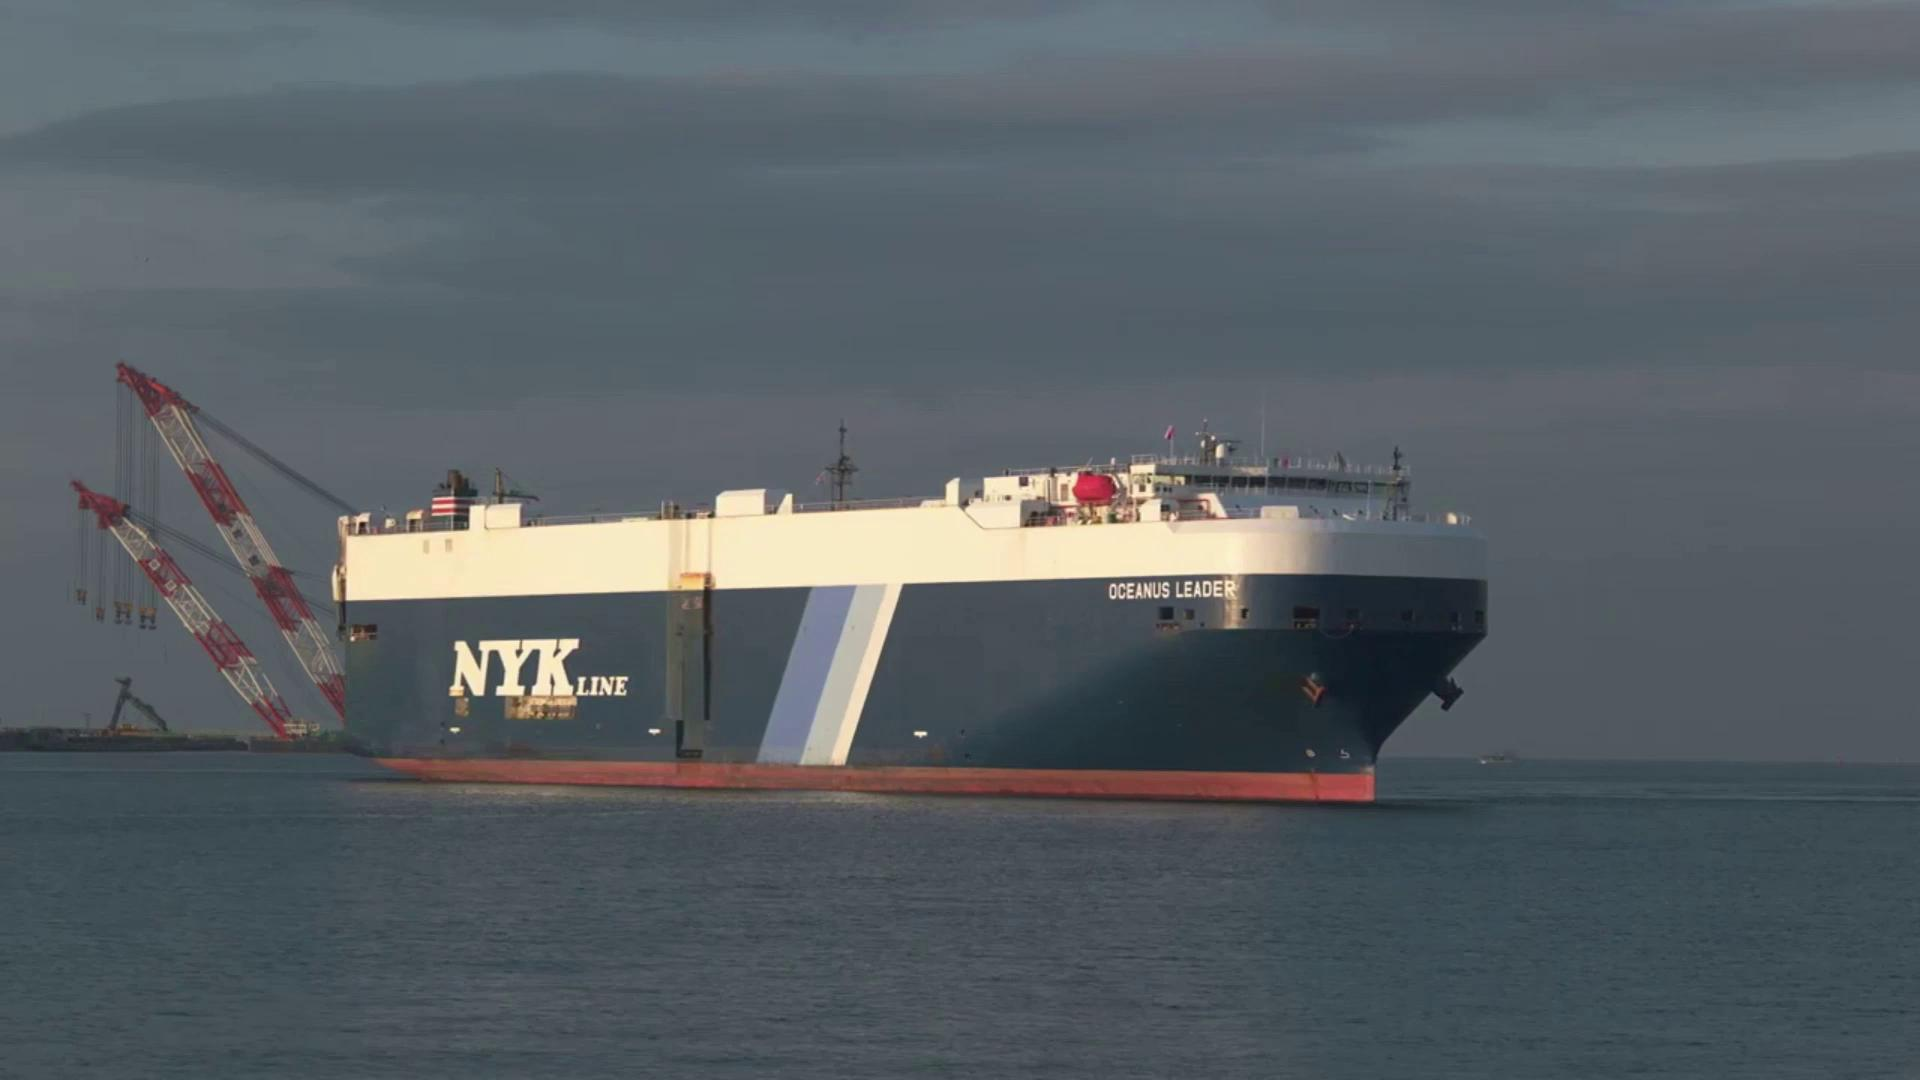OCR: (644, 637, 814, 688)
